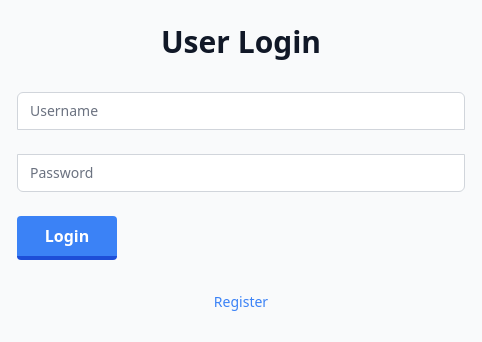
Test: Login Component › displays an error message when login fails
Type "wronguser" into the field with placeholder "Username" at (241, 111), box [17, 92, 465, 130]
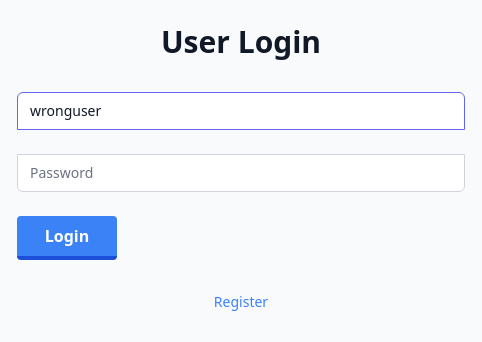
Type "wrongpassword" into the password field with placeholder "Password" at (241, 173), box [17, 154, 465, 192]
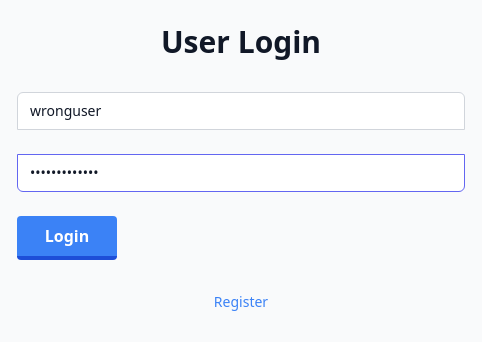
Click the button "Login" at (67, 238), box [17, 216, 117, 260]
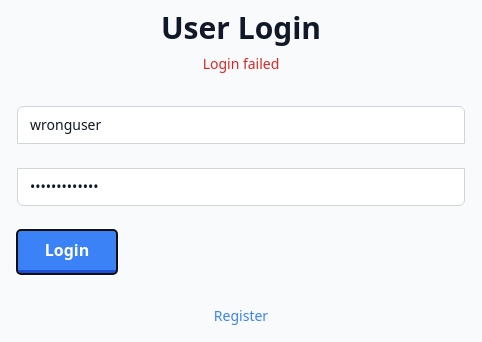
Now the text "Login failed" is shown, box [203, 54, 279, 73]
